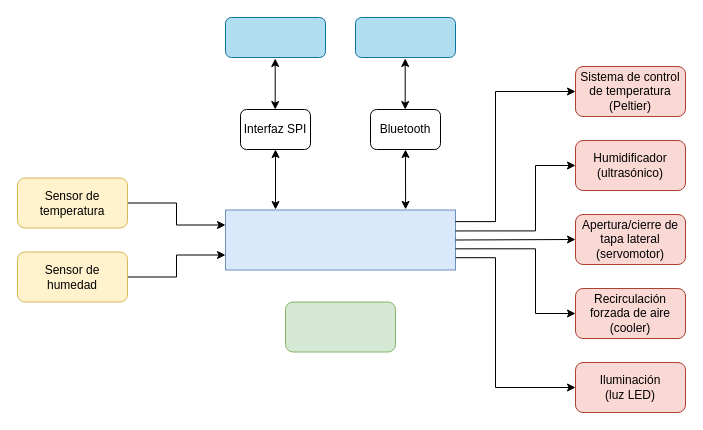
The diagram is 703 pixels wide and 430 high, and some of its shapes have lost their labels. Each missing label, with the centre of its shape:
APP (Android): pixel 405 37
Display táctil + Módulo SD: pixel 275 37
Fuente de alimentación 110/220 V: pixel 340 326
Microcontrolador: pixel 340 239
